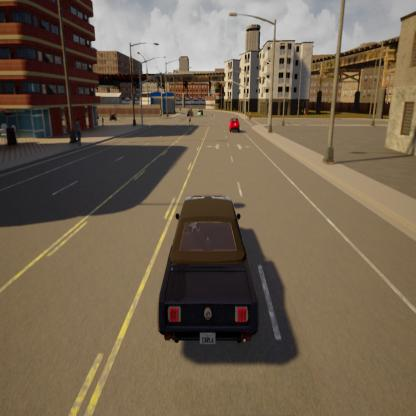Cars: (154, 164, 272, 358), (228, 114, 242, 137), (108, 105, 122, 124), (187, 106, 195, 120), (197, 106, 204, 121)
Pedestrian: (73, 112, 84, 150), (187, 112, 194, 128), (101, 113, 106, 131), (178, 103, 183, 112), (160, 108, 162, 121)
